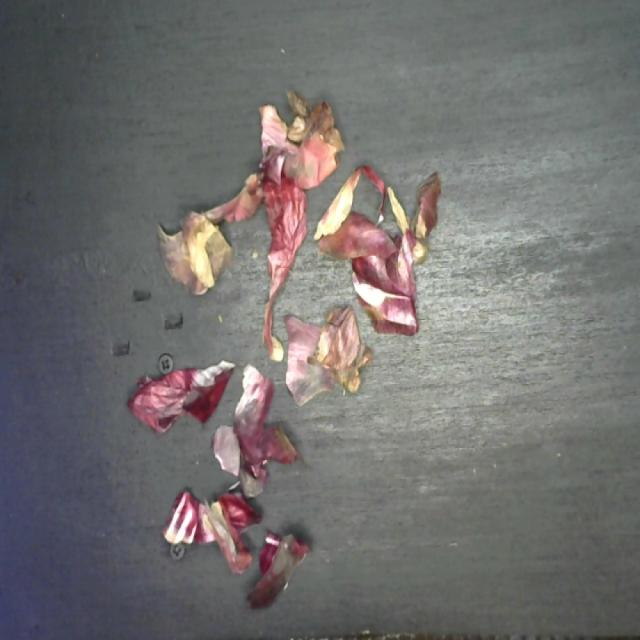biodegradable: (121, 81, 441, 615)
